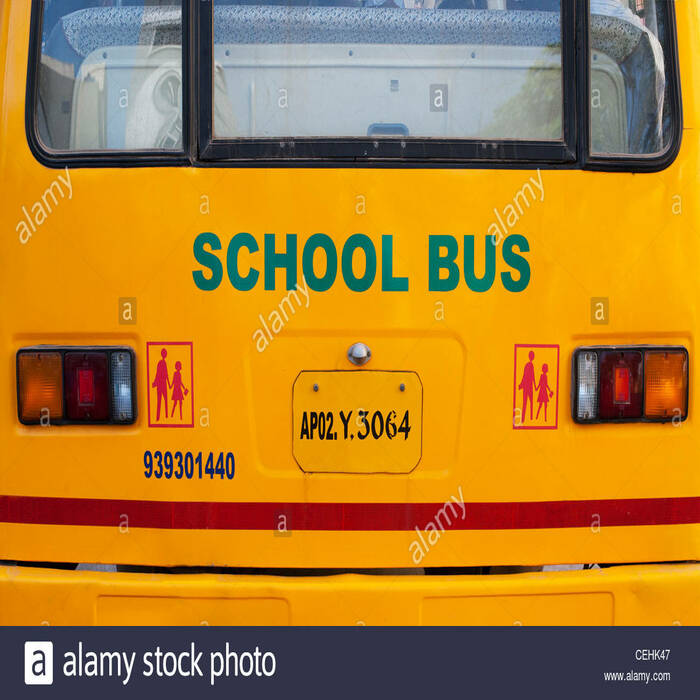n: (284, 357, 432, 484)
